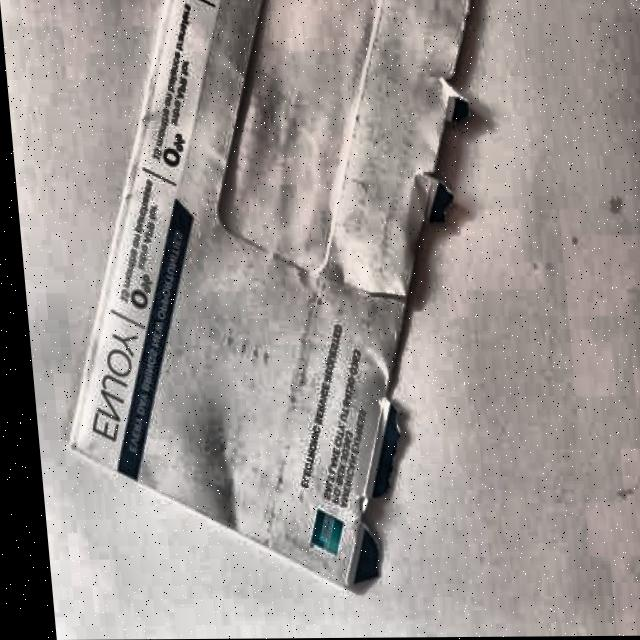paper: (31, 0, 531, 599)
